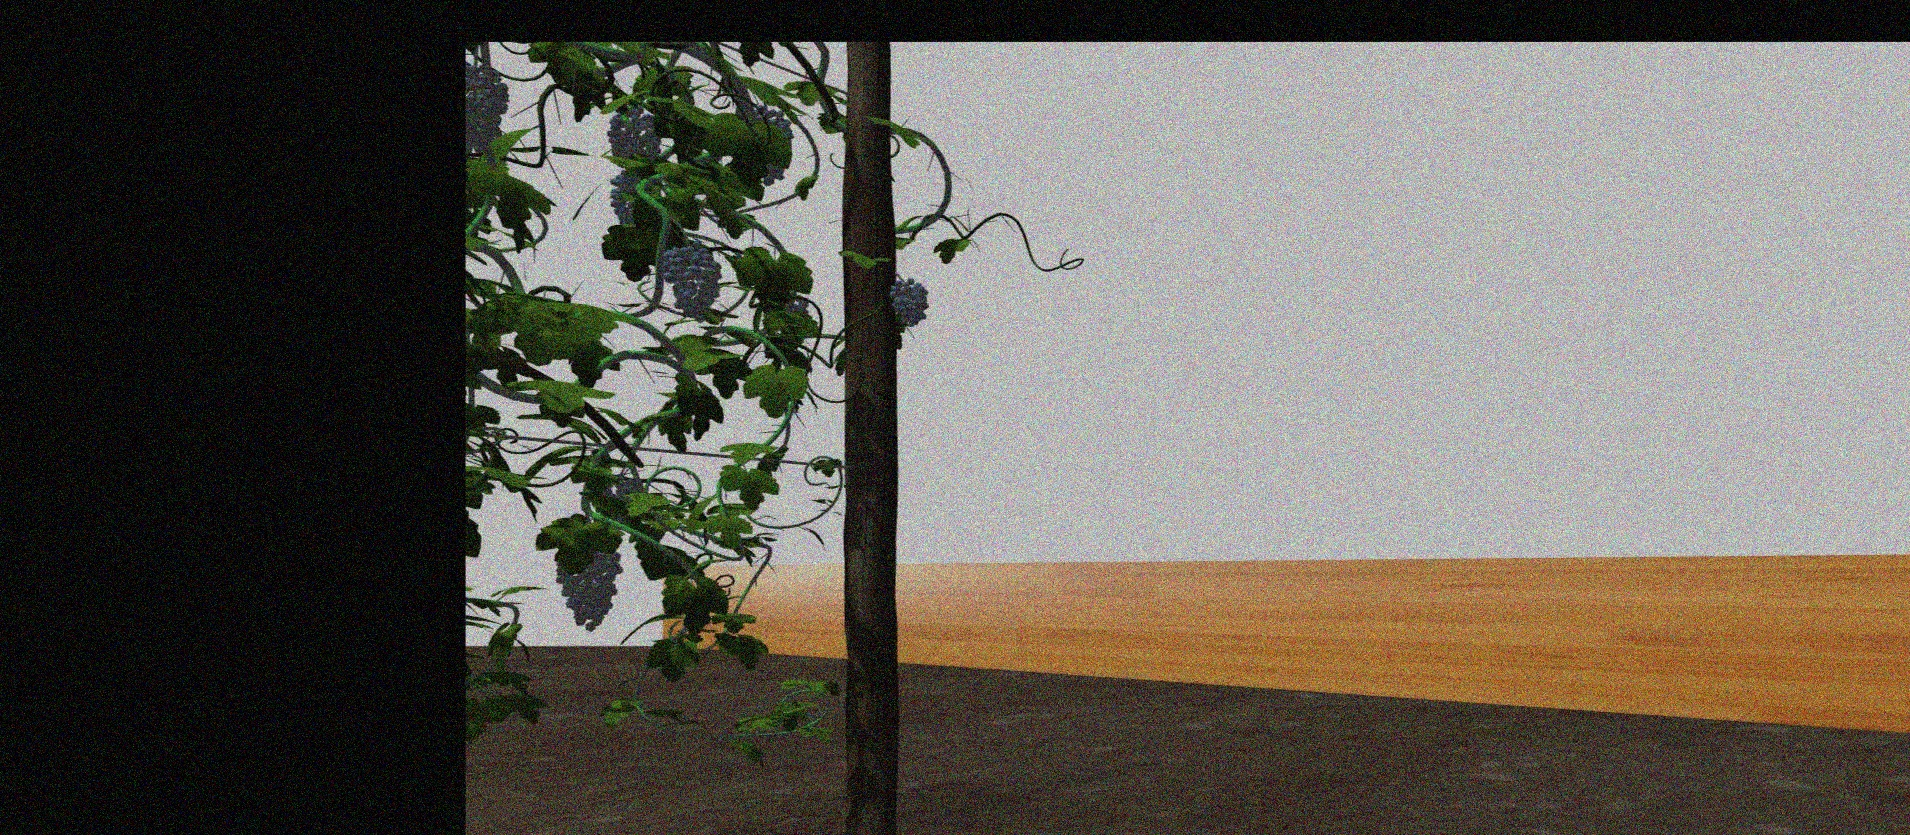grape: (554, 539, 622, 631), (660, 238, 721, 321), (465, 65, 510, 154), (605, 105, 663, 168), (888, 278, 929, 325)
